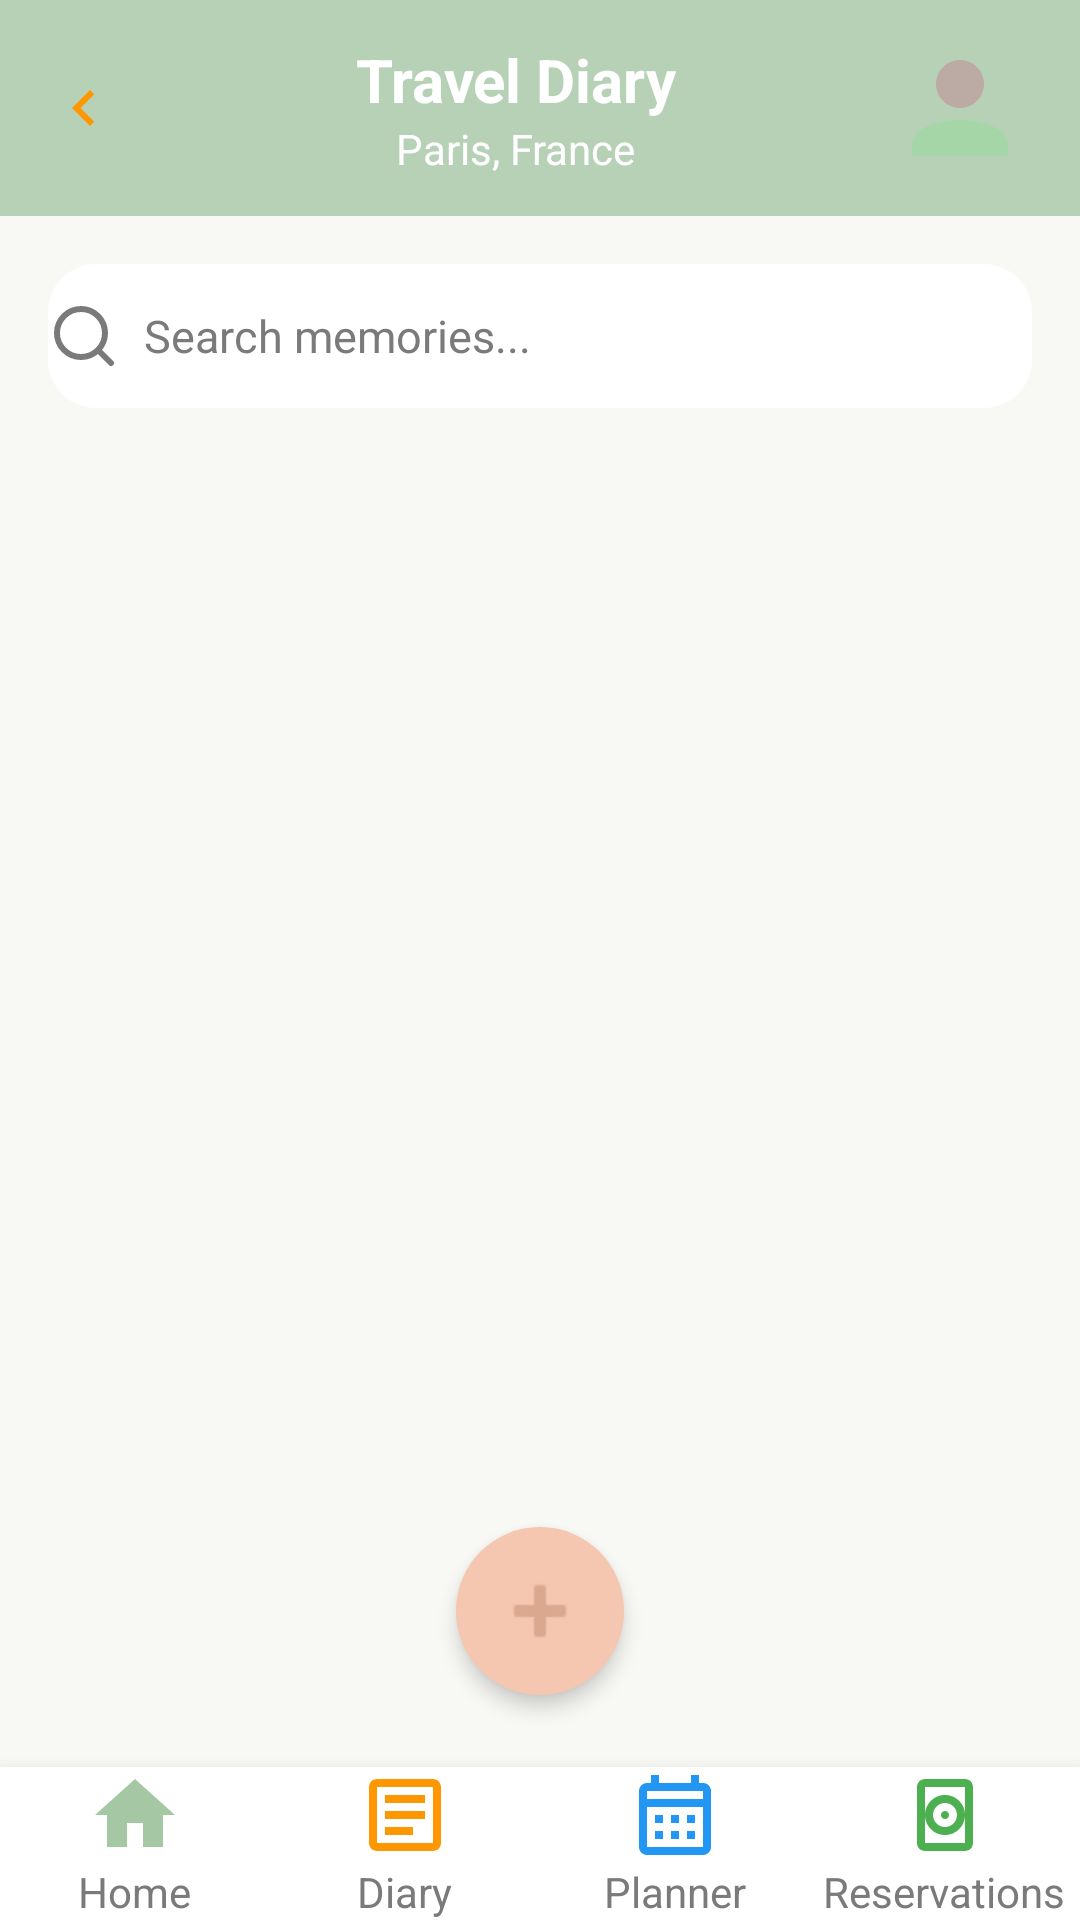

Icons on this 1080x1920 Android screen, each with the point to tap as (x,y):
Add: (540,1611)
Back: (83,108)
